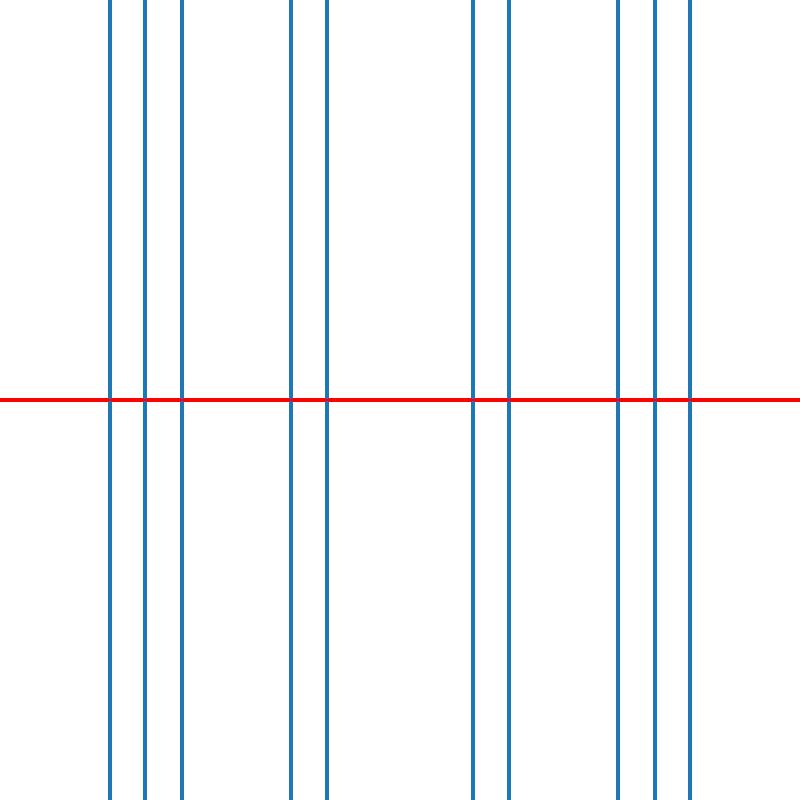root: (141, 396, 149, 404), (650, 396, 658, 404), (105, 396, 112, 404), (505, 396, 512, 404), (469, 396, 476, 404), (178, 396, 185, 404), (687, 396, 694, 404), (614, 396, 621, 404), (287, 396, 294, 404), (323, 396, 330, 404)
